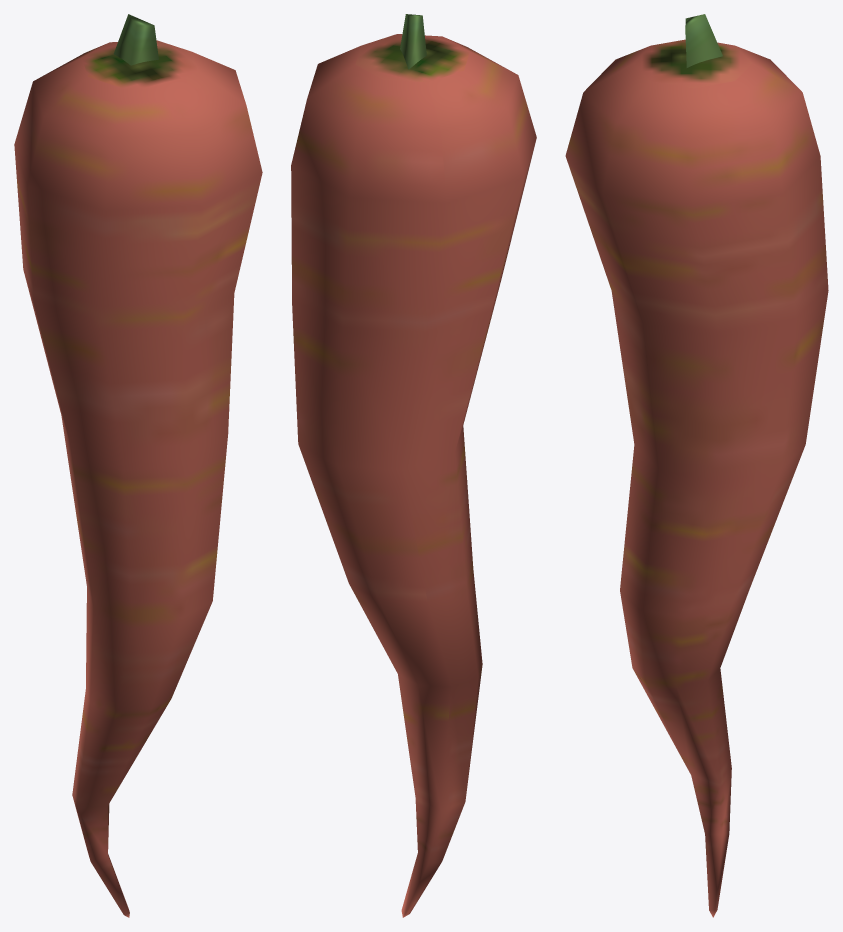
The model's file is Obj_Get_PlantCarrot_A_01.glb.
The picture shows the model from 3 angles, left to right: view 1: azimuth 30°, elevation 25°; view 2: azimuth 150°, elevation 25°; view 3: azimuth 270°, elevation 25°; orthographic projection.
Parts seen in each view (by area): view 1: Obj_Get_PlantCarrot_A_01; view 2: Obj_Get_PlantCarrot_A_01; view 3: Obj_Get_PlantCarrot_A_01.
Part boxes in pixels (x1,y1,x2,y2): Obj_Get_PlantCarrot_A_01: (14,14,262,917); Obj_Get_PlantCarrot_A_01: (291,14,536,917); Obj_Get_PlantCarrot_A_01: (565,14,828,917).
Bounding box in the file's own units: 0.1702 × 0.6636 × 0.1755.
Materials: 1 (1 with a texture image).
